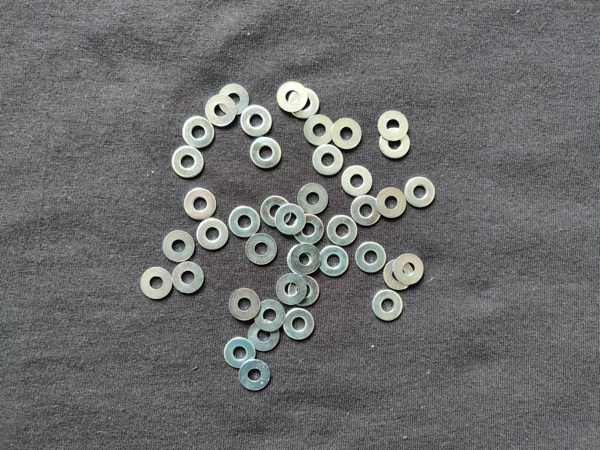circle: (140, 267, 173, 301), (171, 145, 205, 178), (171, 262, 204, 294), (288, 276, 321, 308), (182, 116, 215, 148), (240, 105, 272, 138), (163, 231, 195, 263), (239, 360, 271, 392), (197, 218, 229, 250), (276, 273, 308, 305), (184, 188, 216, 220), (250, 137, 282, 169), (218, 83, 250, 115), (282, 310, 315, 341), (373, 289, 404, 322), (224, 338, 256, 369), (229, 289, 260, 321), (248, 321, 280, 352), (245, 234, 277, 265), (229, 206, 261, 237), (351, 195, 383, 226), (342, 165, 374, 196), (380, 128, 412, 159), (289, 88, 321, 119), (205, 95, 237, 126), (255, 300, 285, 333), (261, 196, 292, 227), (327, 215, 358, 246), (298, 183, 329, 214), (332, 118, 363, 149), (277, 81, 308, 112), (275, 204, 307, 234), (406, 176, 436, 208), (378, 111, 410, 141), (384, 259, 414, 290), (294, 214, 324, 245), (287, 246, 318, 276), (356, 242, 386, 273), (377, 187, 407, 218), (314, 145, 344, 176), (304, 115, 334, 146), (395, 254, 425, 284), (291, 244, 321, 274), (320, 246, 350, 276)
